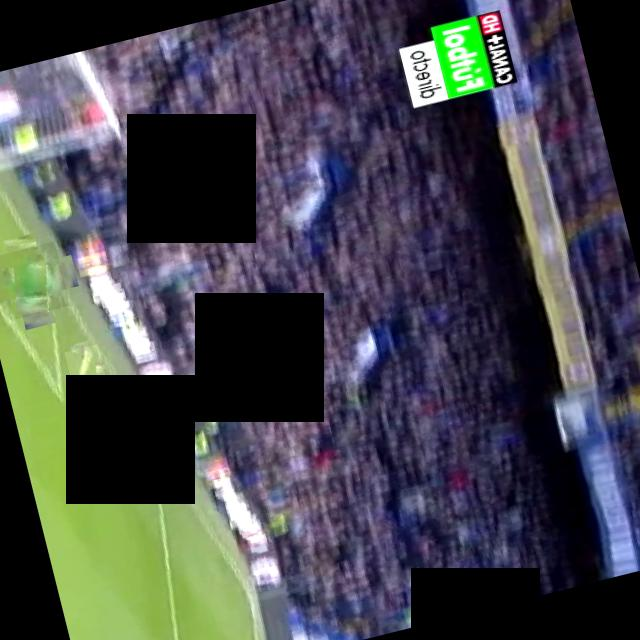ball: (64, 343, 105, 385)
goalkeeper: (0, 240, 69, 320)
